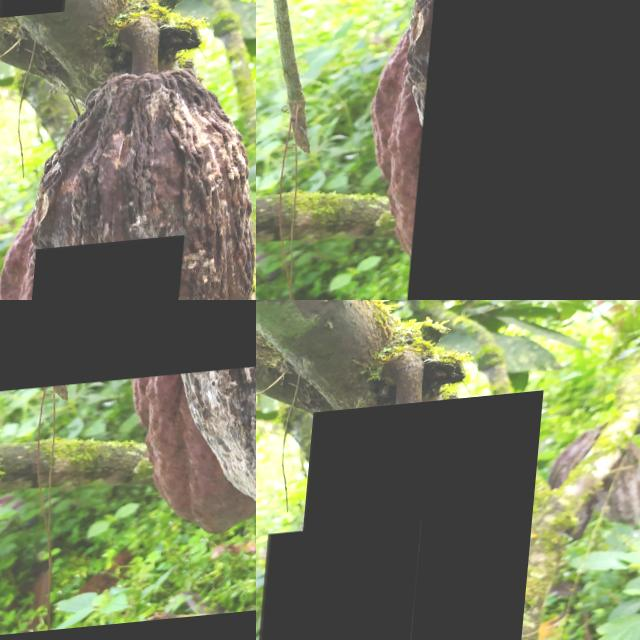Fitoftora: (413, 0, 640, 300), (289, 399, 546, 640), (28, 242, 190, 300)
Sana: (0, 300, 256, 395), (256, 526, 425, 640), (0, 0, 72, 20)
